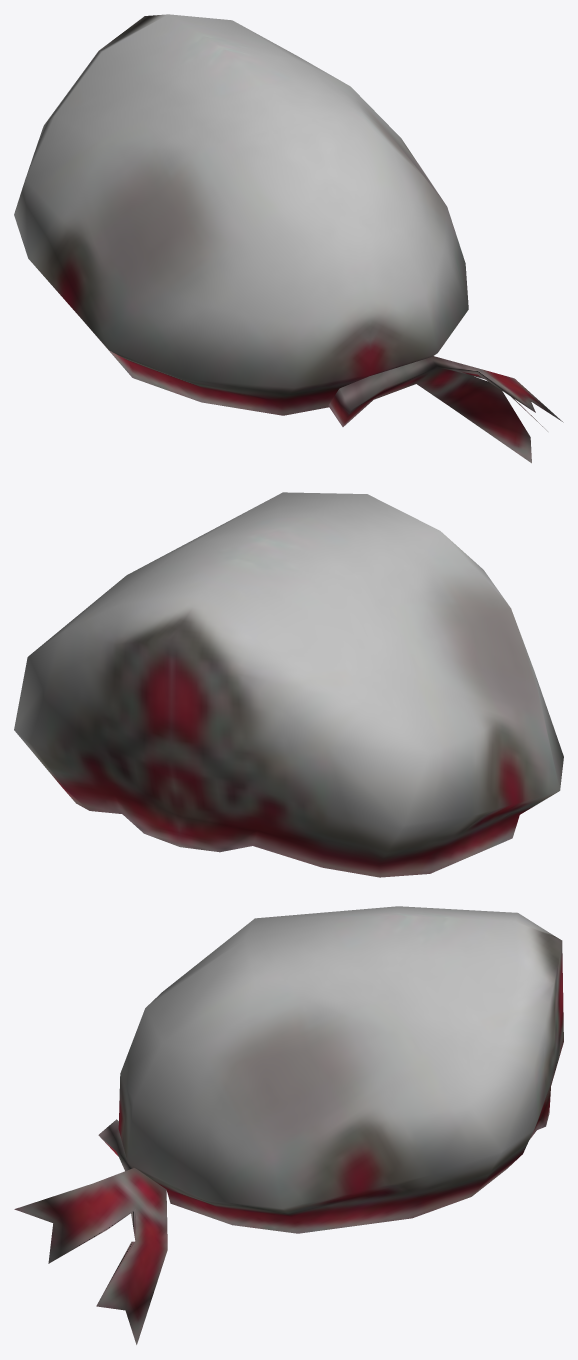
Rendered from pvpHelmetR.glb.
3 views of the same model, one above another, from view 1: azimuth 30°, elevation 25°; view 2: azimuth 150°, elevation 25°; view 3: azimuth 270°, elevation 25° (orthographic). The views are drawn at different scales.
Parts seen in each view (by area): view 1: pvpHelmetR; view 2: pvpHelmetR; view 3: pvpHelmetR.
Part boxes in pixels (x1,y1,x2,y2): pvpHelmetR: [14, 14, 563, 463]; pvpHelmetR: [14, 492, 563, 877]; pvpHelmetR: [14, 906, 563, 1344].
Bounding box in the file's own units: 0.3197 × 0.2978 × 0.4259.
Materials: 1 (1 with a texture image).
